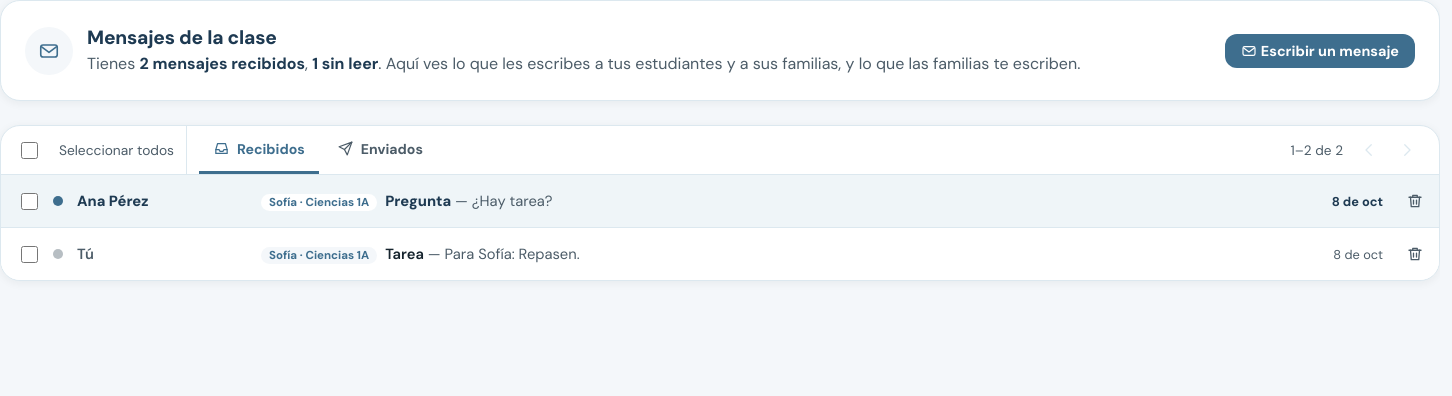
the messages of a class (HU-77) › lists the messages like the inbox and opens one as a mail, marking it read
Expected: the text "2 mensajes recibidos" is shown, [140,53,305,74]
Expected: the text "1 sin leer" is shown, [312,53,378,74]
Click the button that starts with "Ana Pérez" at (108, 201), box [47,175,1391,227]
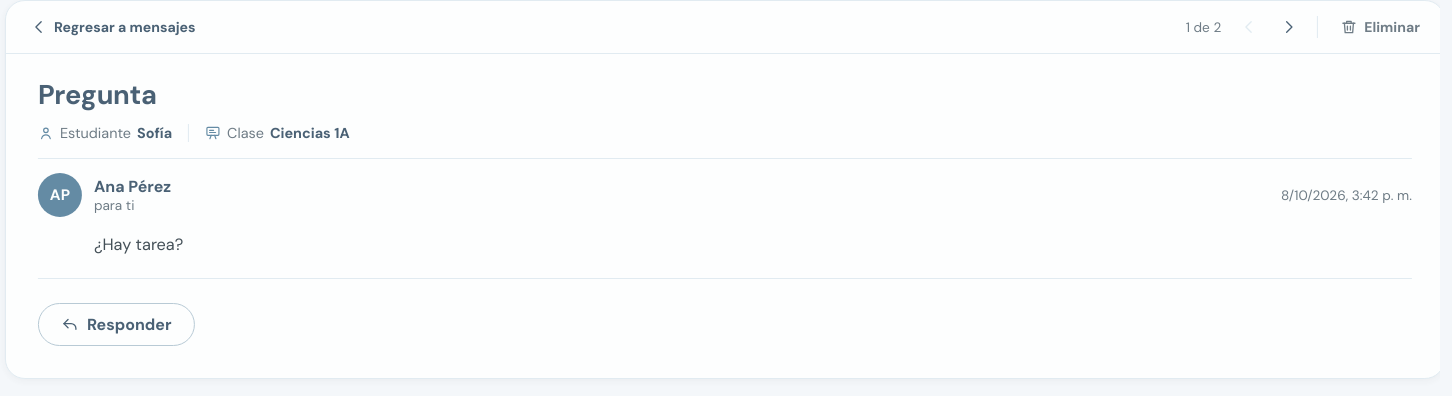
Expected: the text "¿Hay tarea?" is shown, [89,234,179,255]
Expected: the button "Regresar a mensajes" is shown, [13,10,203,44]
